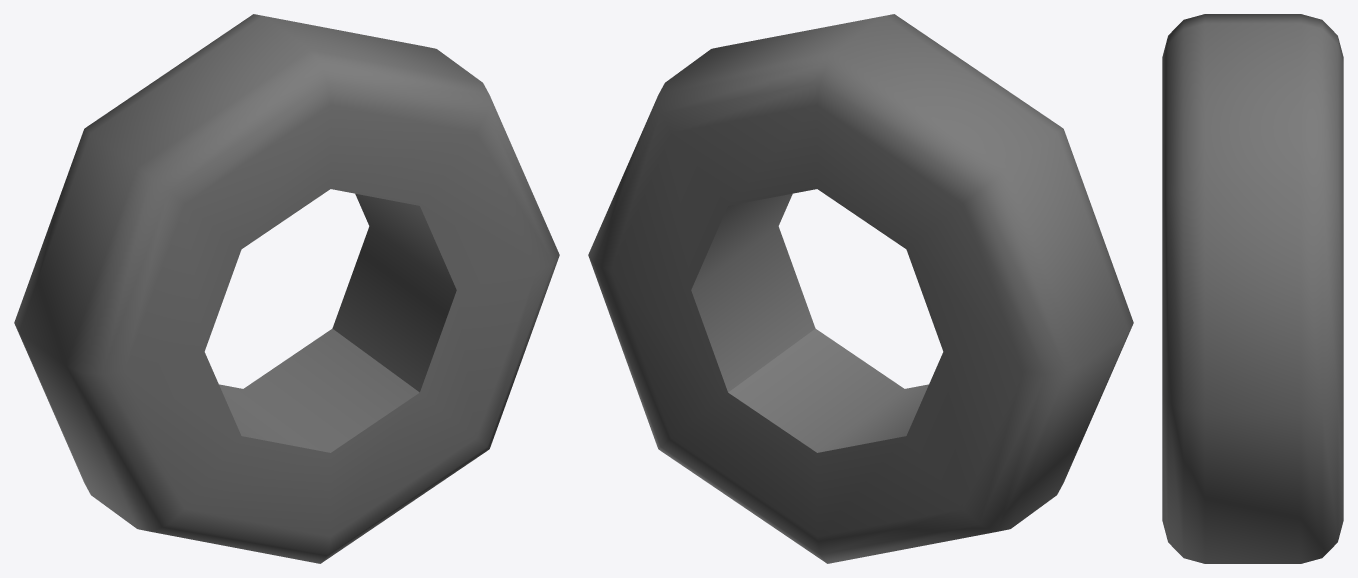
File: Screw.fbx
3 renders of one model, left to right at view 1: azimuth 30°, elevation 25°; view 2: azimuth 150°, elevation 25°; view 3: azimuth 270°, elevation 25°, orthographic. The views are drawn at different scales.
Parts seen in each view (by area): view 1: Screw; view 2: Screw; view 3: Screw.
Boxes of the visible parts, <box> form: Screw: <box>14,14,559,563</box>; Screw: <box>588,14,1133,563</box>; Screw: <box>1162,14,1343,563</box>.
Bounding box in the file's own units: 0.1732 × 0.1732 × 0.0536.
